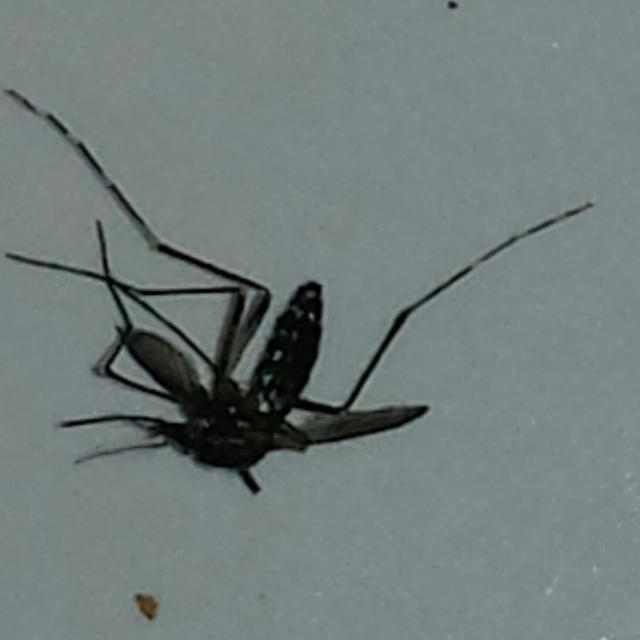albopictus: (0, 62, 501, 513)
